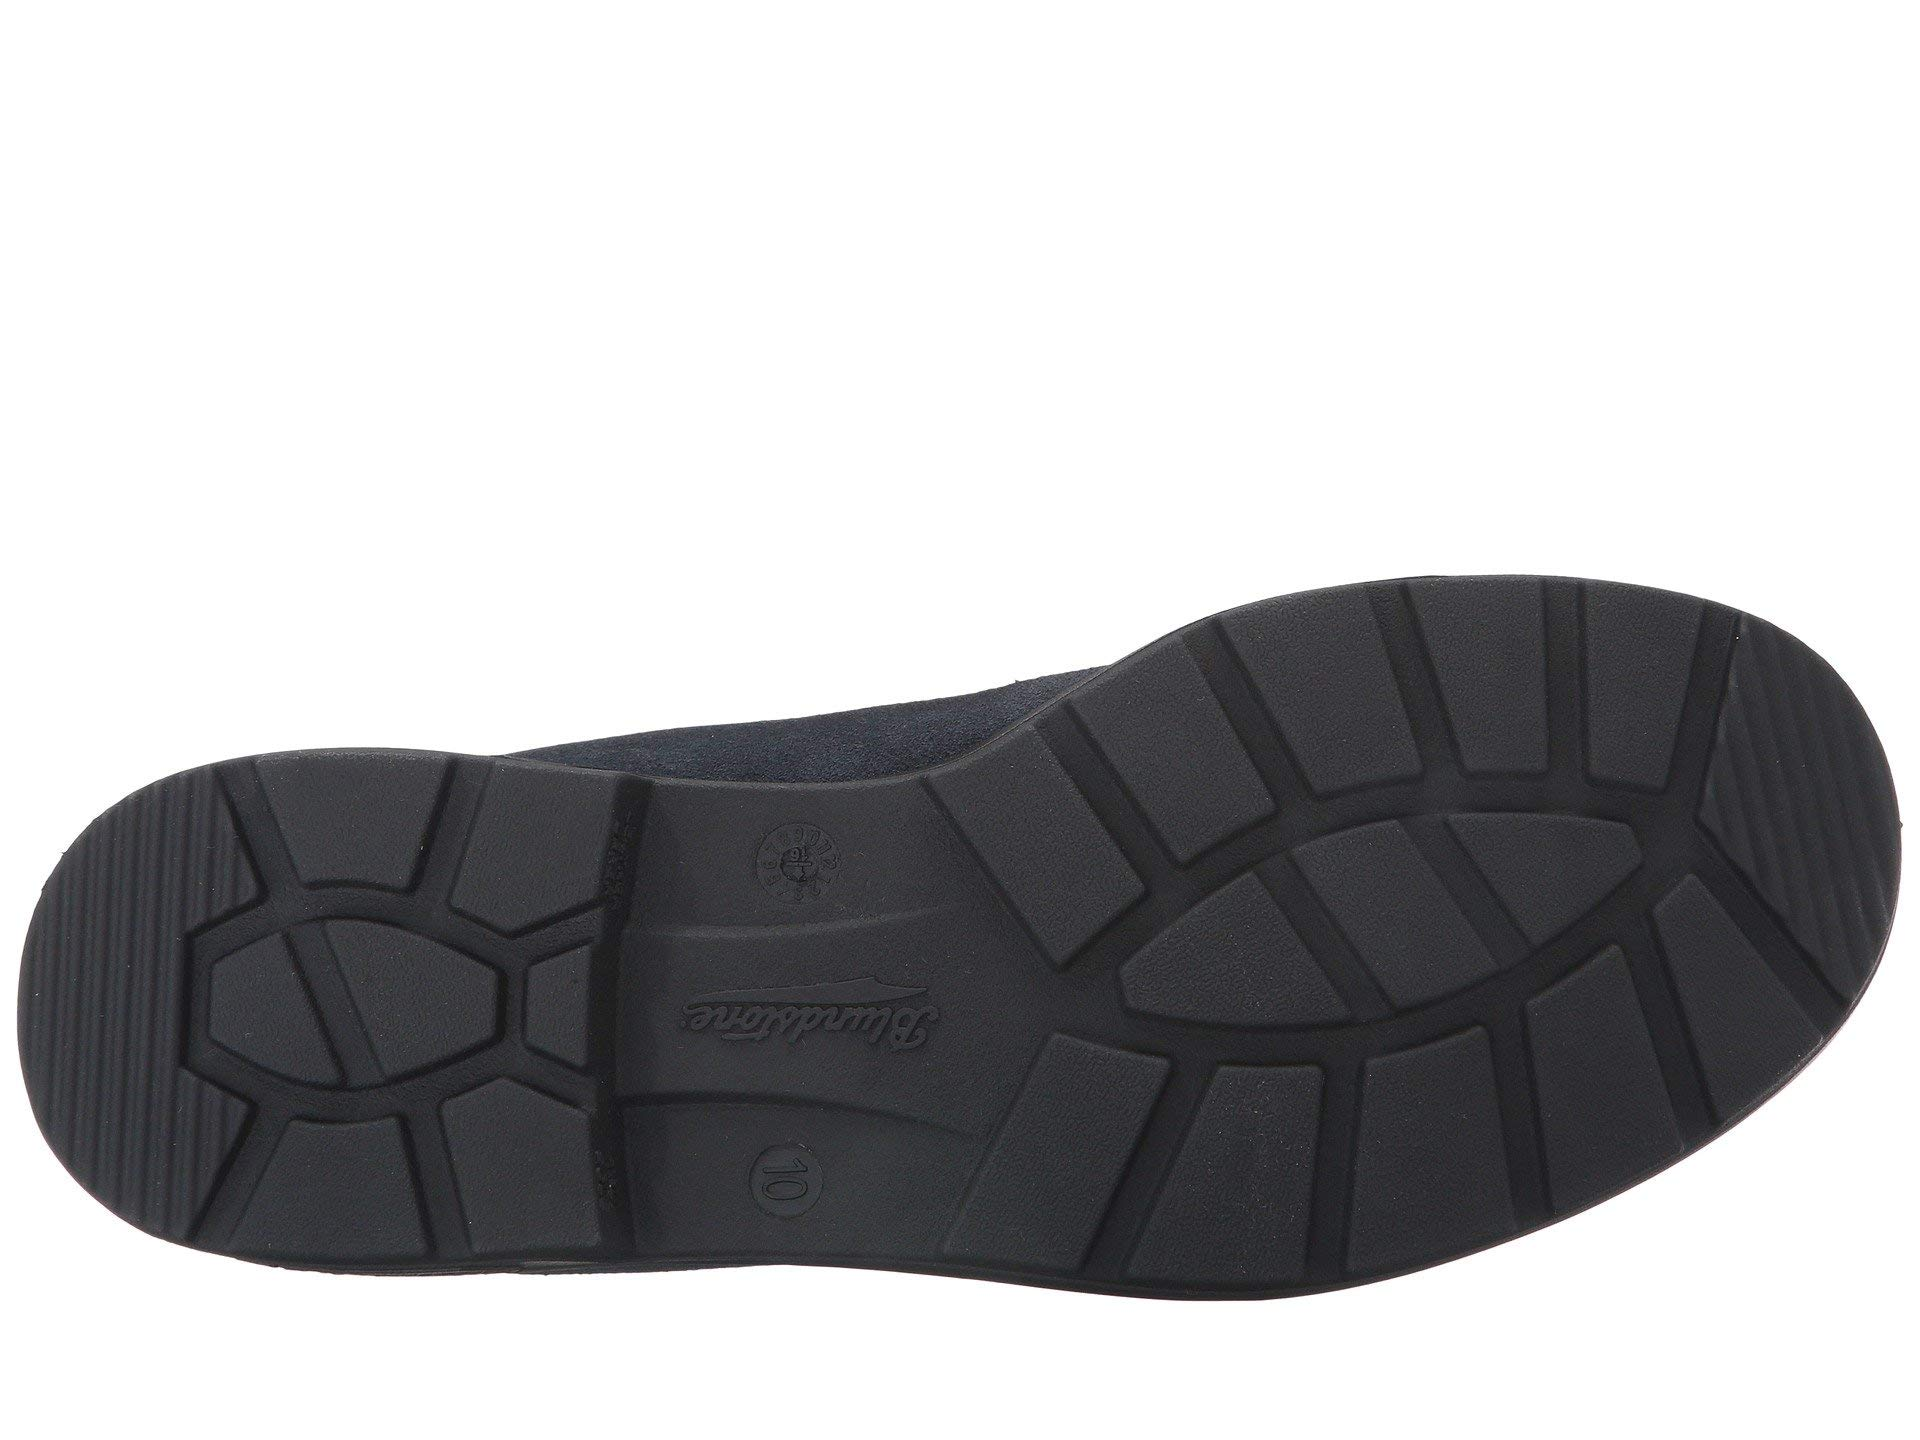exclude: (599, 776, 946, 1292)
line: (48, 852, 154, 1175), (1742, 696, 1857, 902)
quad: (946, 992, 1513, 1295), (1385, 560, 1560, 788), (1562, 582, 1705, 803), (516, 930, 599, 1085)
triangle: (203, 938, 351, 1097), (224, 1080, 268, 1174), (231, 846, 283, 911)
